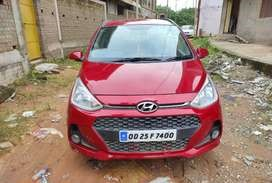OD25F7400: (119, 130, 176, 142)
